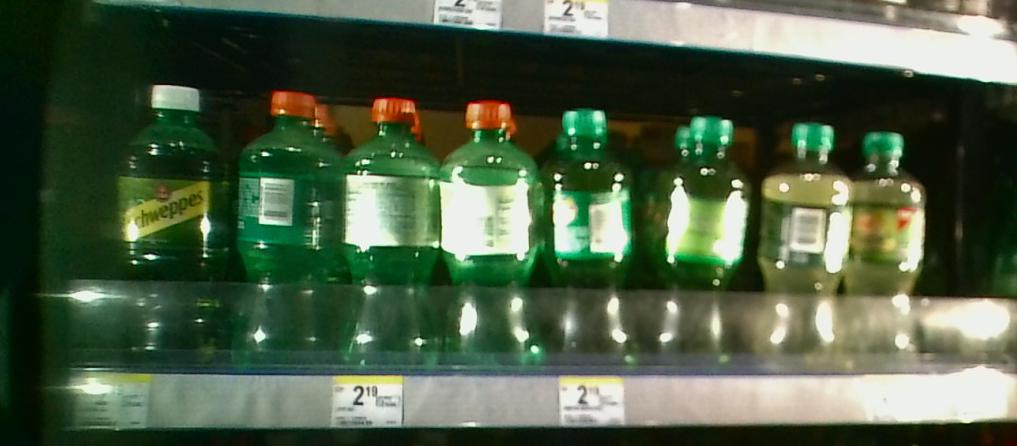bottle: (101, 73, 231, 362), (637, 69, 752, 372), (438, 69, 542, 380), (231, 71, 339, 365), (339, 69, 437, 370), (541, 69, 638, 363), (756, 112, 857, 362), (859, 125, 935, 379)
